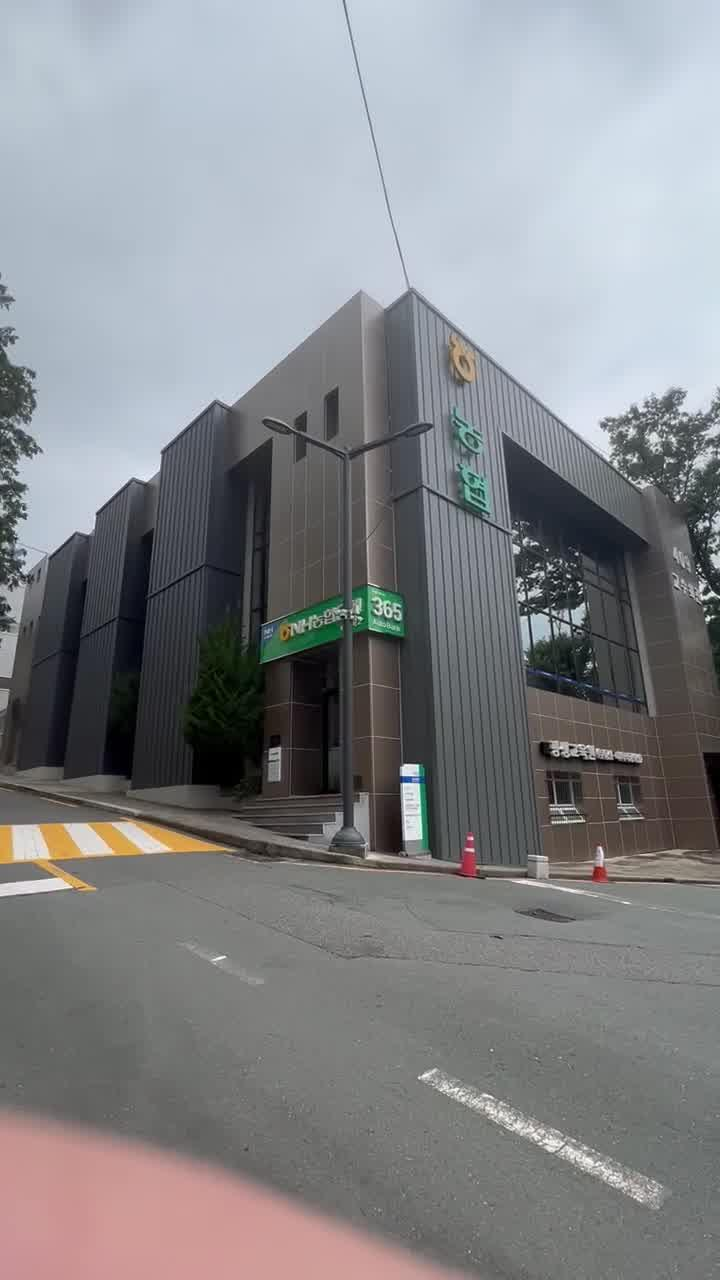building: (30, 328, 696, 806)
